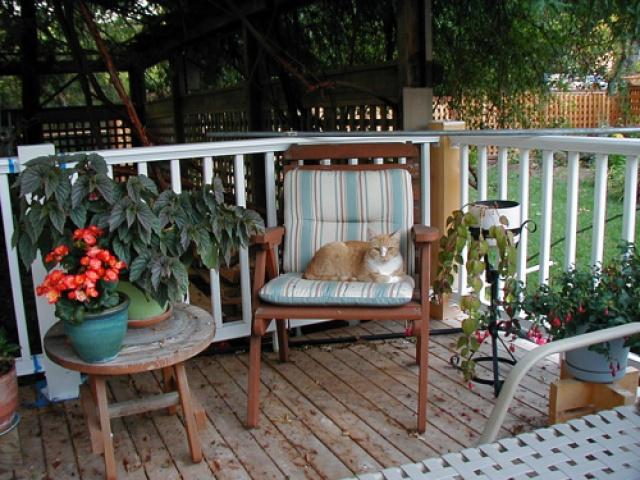Kursi: (244, 142, 440, 432)
